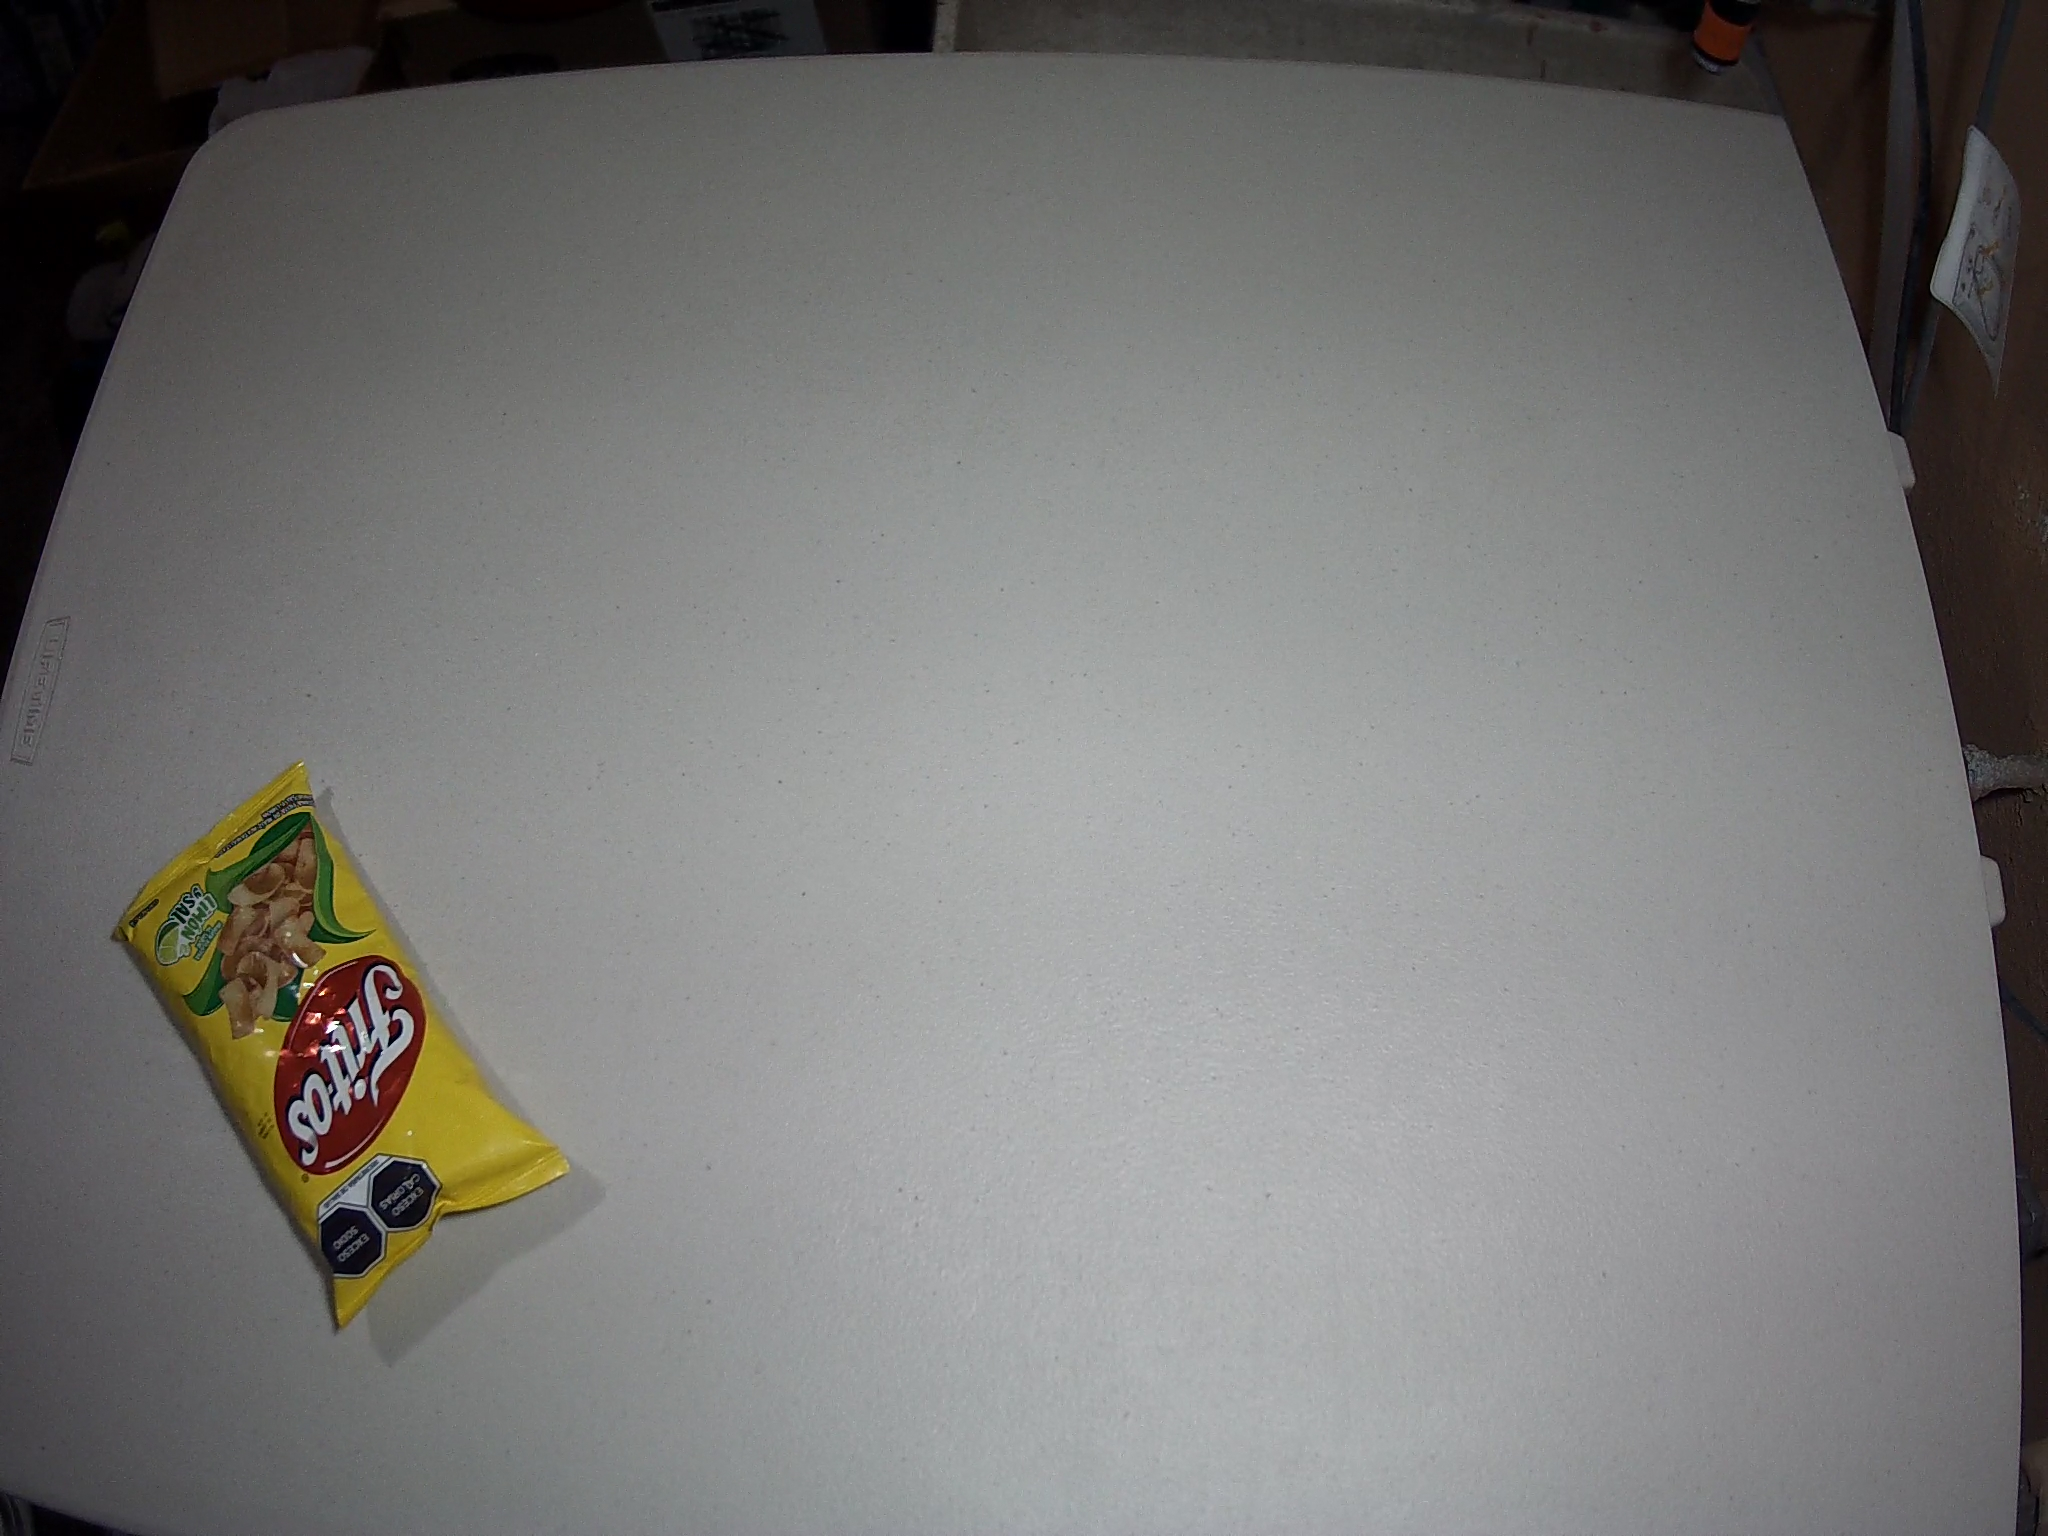FritosSalLimon_65_F: (110, 762, 576, 1333)
